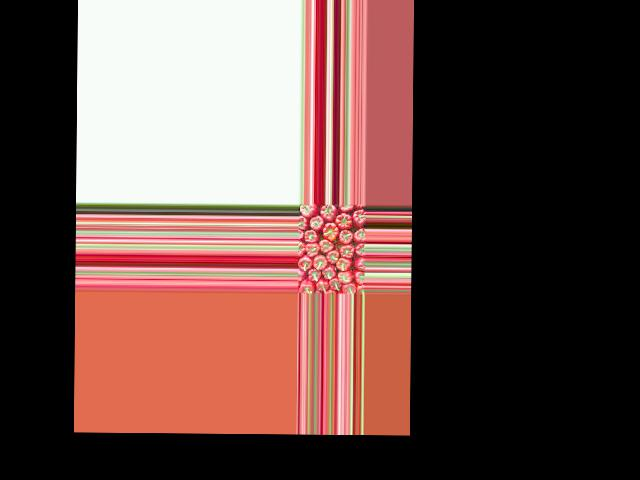bell_pepper: (299, 278, 313, 292)
